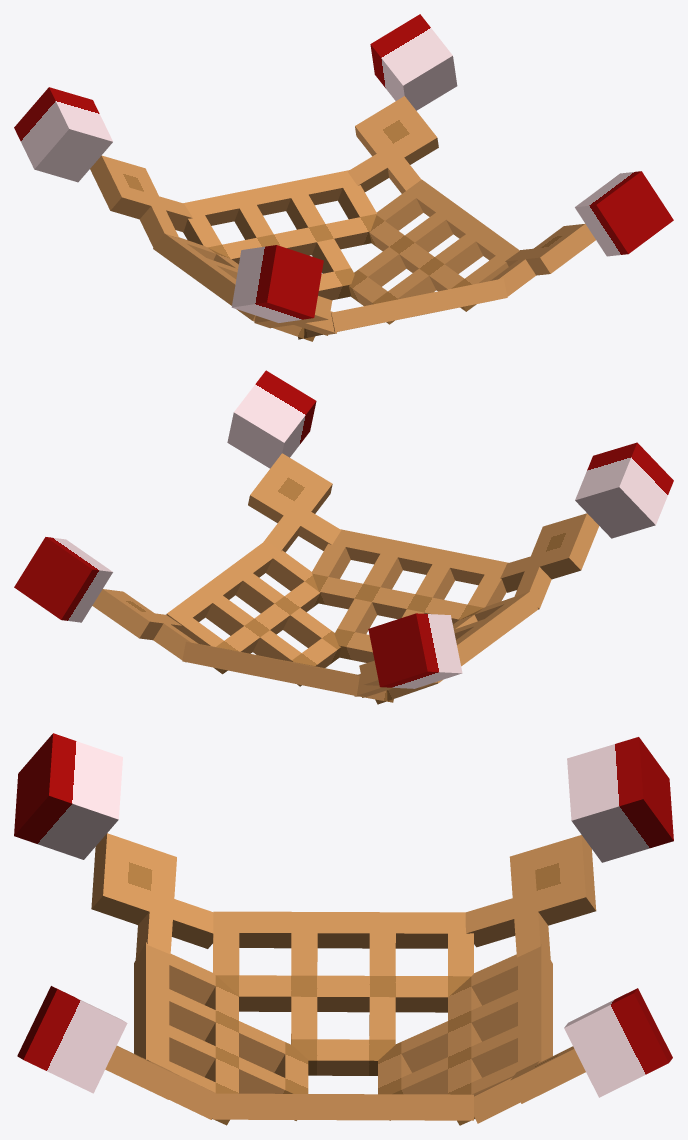
File: Item_Net01.gltf
The picture shows the model from 3 angles, top to bottom: view 1: azimuth 30°, elevation 25°; view 2: azimuth 150°, elevation 25°; view 3: azimuth 270°, elevation 25°; orthographic projection. The views are drawn at different scales.
Visible parts, largest first — view 1: Segment3-Local, Segment4-Local, Corner3-Local, Corner2-Local, Corner4-Local, Corner1-Local, Segment1-Local, Segment2-Local; view 2: Segment1-Local, Segment4-Local, Corner4-Local, Corner1-Local, Corner3-Local, Corner2-Local, Segment3-Local, Segment2-Local; view 3: Segment2-Local, Corner2-Local, Corner1-Local, Segment3-Local, Segment1-Local, Corner3-Local, Corner4-Local, Segment4-Local.
Part boxes in pixels (box(x1,y1,x2,y2)): Segment3-Local: box(183, 170, 376, 300); Segment4-Local: box(349, 179, 519, 324); Corner3-Local: box(347, 14, 457, 193); Corner2-Local: box(14, 87, 192, 247); Corner4-Local: box(490, 171, 673, 296); Corner1-Local: box(231, 245, 336, 335); Segment1-Local: box(298, 278, 507, 339); Segment2-Local: box(153, 233, 327, 341); Segment1-Local: box(311, 529, 508, 662); Segment4-Local: box(166, 540, 341, 686); Corner4-Local: box(227, 370, 341, 552); Corner1-Local: box(500, 442, 673, 609); Corner3-Local: box(14, 537, 198, 662); Corner2-Local: box(354, 613, 462, 696); Segment3-Local: box(182, 641, 393, 702); Segment2-Local: box(362, 591, 538, 704); Segment2-Local: box(213, 911, 473, 1075); Corner2-Local: box(465, 737, 673, 958); Corner1-Local: box(14, 733, 213, 959); Segment3-Local: box(378, 944, 552, 1125); Segment1-Local: box(134, 942, 308, 1125); Corner3-Local: box(474, 988, 672, 1123); Corner4-Local: box(17, 986, 222, 1119); Segment4-Local: box(213, 1093, 473, 1120).
Bounding box in the file's own units: 24.67 × 10.87 × 25.29.
Materials: 8 (8 with a texture image).
